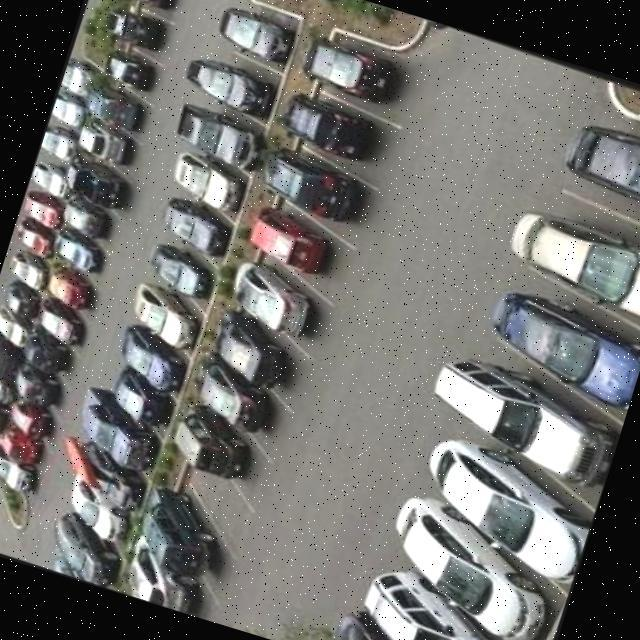space-empty: (149, 448, 265, 552)
space-occupied: (358, 491, 581, 640), (412, 422, 606, 576), (442, 349, 630, 494), (477, 271, 640, 415), (325, 552, 554, 640), (507, 181, 640, 329), (255, 138, 397, 255), (238, 188, 372, 301), (219, 244, 349, 360), (280, 81, 416, 190), (126, 477, 252, 593), (296, 22, 432, 124), (198, 305, 322, 409), (162, 395, 282, 502), (556, 102, 640, 244), (180, 356, 298, 454), (112, 532, 227, 620), (65, 394, 174, 486), (180, 40, 293, 124), (308, 601, 533, 640), (58, 442, 163, 523), (196, 0, 308, 74), (88, 361, 192, 440), (35, 510, 136, 591), (44, 477, 146, 555), (102, 322, 199, 402), (171, 98, 272, 174), (130, 238, 228, 316), (158, 148, 256, 225), (120, 278, 213, 359), (146, 200, 244, 274), (62, 152, 144, 222), (84, 79, 168, 141), (99, 0, 181, 62), (94, 41, 174, 104), (70, 118, 156, 176), (42, 224, 122, 283), (11, 323, 86, 382), (36, 258, 110, 316), (3, 360, 77, 414), (29, 294, 100, 348), (52, 194, 124, 246), (0, 390, 68, 445), (0, 415, 57, 470), (0, 241, 55, 295), (58, 48, 109, 106), (8, 210, 63, 262), (33, 554, 117, 588), (17, 183, 72, 234), (26, 152, 77, 203), (0, 441, 44, 500), (48, 86, 96, 136), (38, 122, 82, 168), (0, 276, 42, 323), (0, 303, 35, 353), (118, 0, 197, 22), (0, 326, 27, 385), (0, 361, 19, 409)
